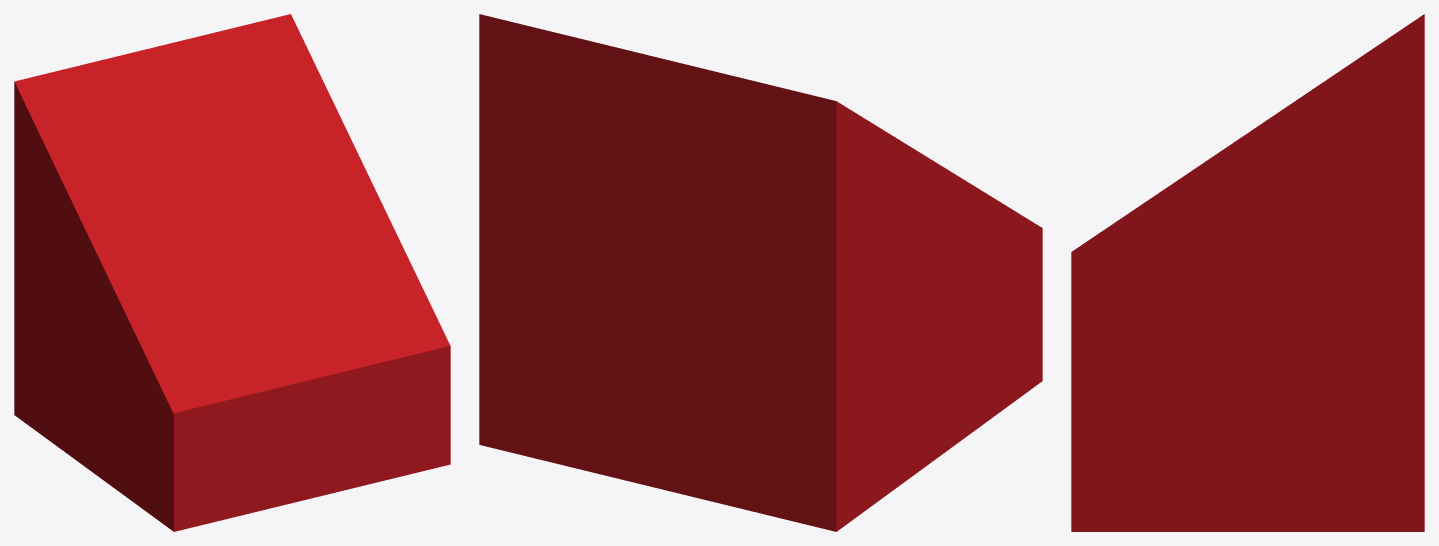
Rendered from front.fbx.
3 views of the same model, side by side, from view 1: azimuth 30°, elevation 25°; view 2: azimuth 150°, elevation 25°; view 3: azimuth 270°, elevation 25° (orthographic). The views are drawn at different scales.
Visible parts, largest first — view 1: front; view 2: front; view 3: front.
Boxes of the visible parts, x1,y1,x2,y2 form: front: [14, 14, 450, 531]; front: [479, 14, 1042, 531]; front: [1071, 14, 1424, 531].
Bounding box in the file's own units: 0.156 × 0.1798 × 0.156.
